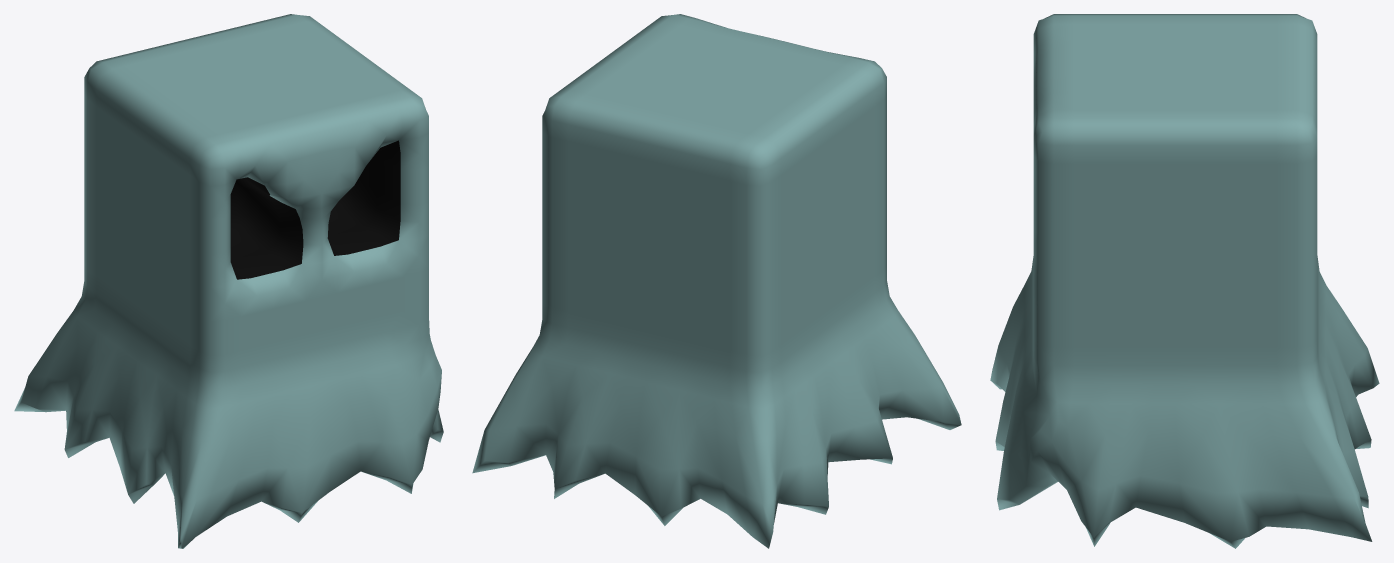
File: smoothGhost.fbx
3 renders of one model, left to right at view 1: azimuth 30°, elevation 25°; view 2: azimuth 150°, elevation 25°; view 3: azimuth 270°, elevation 25°, orthographic. The views are drawn at different scales.
Visible parts, largest first — view 1: Box002; view 2: Box002; view 3: Box002.
Boxes of the visible parts, x1,y1,x2,y2 form: Box002: (14,14,443,548); Box002: (472,14,961,548); Box002: (990,14,1379,548).
Size of the model in its own units: 2.78 by 3.15 by 2.74.
